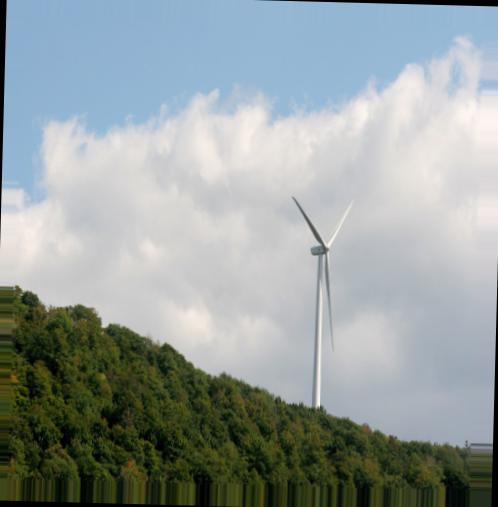wind turbine: (288, 195, 355, 425)
